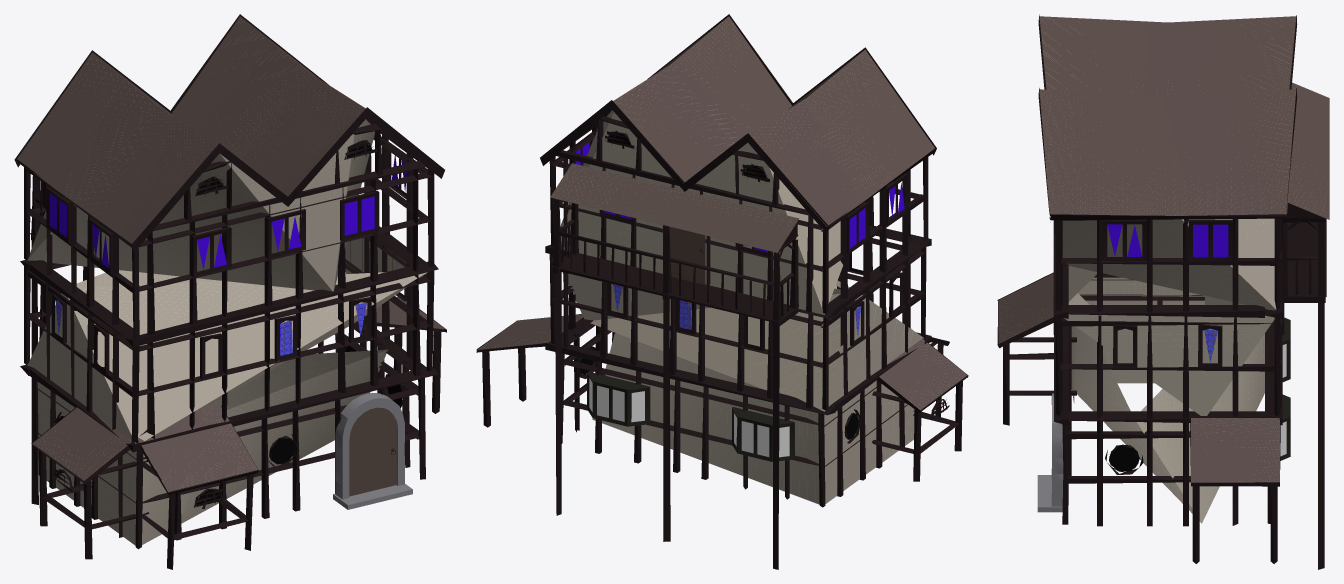
Rendered from oga_house_6.glb.
3 views of the same model, side by side, from view 1: azimuth 30°, elevation 25°; view 2: azimuth 150°, elevation 25°; view 3: azimuth 270°, elevation 25° (orthographic). The views are drawn at different scales.
Visible parts, largest first — view 1: oga_house_6; view 2: oga_house_6; view 3: oga_house_6.
Boxes of the visible parts, x1,y1,x2,y2 form: oga_house_6: (14,14,446,569); oga_house_6: (476,14,968,569); oga_house_6: (997,14,1329,569).
Size of the model in its own units: 11.25 by 11.39 by 7.48.
10 materials, 9 textured.
